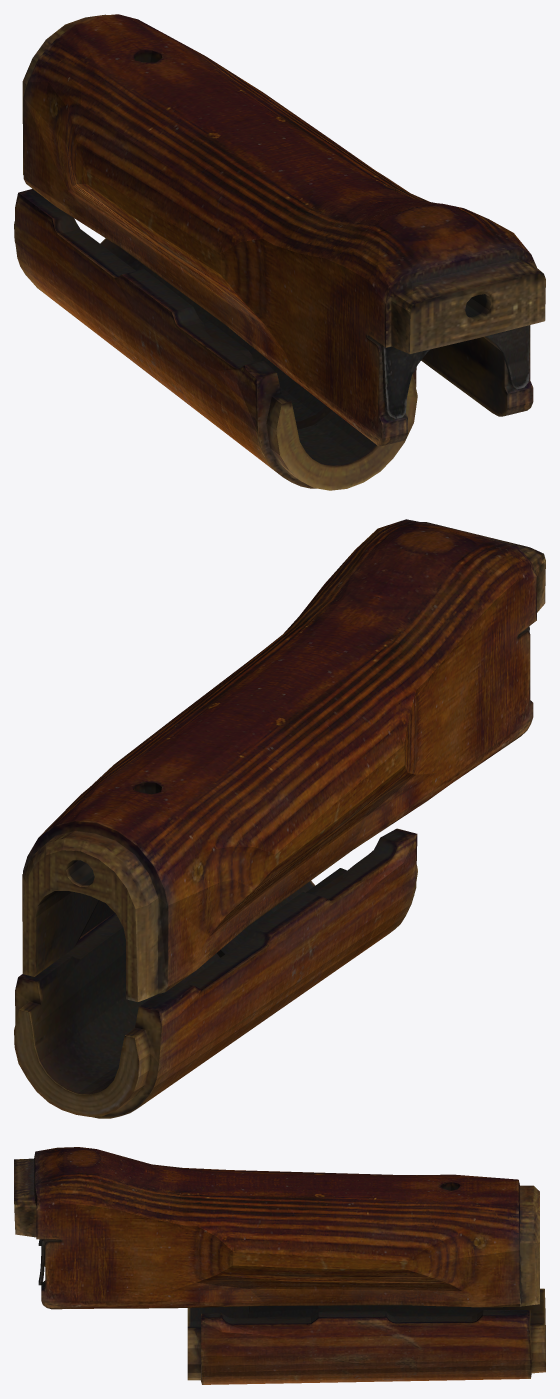
The picture shows the model from 3 angles, top to bottom: view 1: azimuth 30°, elevation 25°; view 2: azimuth 150°, elevation 25°; view 3: azimuth 270°, elevation 25°; orthographic projection. The views are drawn at different scales.
Parts seen in each view (by area): view 1: TW_5648b0744bdc2d363b8b4578_PZ_Import; view 2: TW_5648b0744bdc2d363b8b4578_PZ_Import; view 3: TW_5648b0744bdc2d363b8b4578_PZ_Import.
Part boxes in pixels (bbox=[...]): TW_5648b0744bdc2d363b8b4578_PZ_Import: bbox=[14, 14, 545, 490]; TW_5648b0744bdc2d363b8b4578_PZ_Import: bbox=[14, 519, 545, 1118]; TW_5648b0744bdc2d363b8b4578_PZ_Import: bbox=[14, 1147, 545, 1384].
Size of the model in its own units: 0.0262 by 0.0967 by 0.0449.
1 material, 1 textured.
